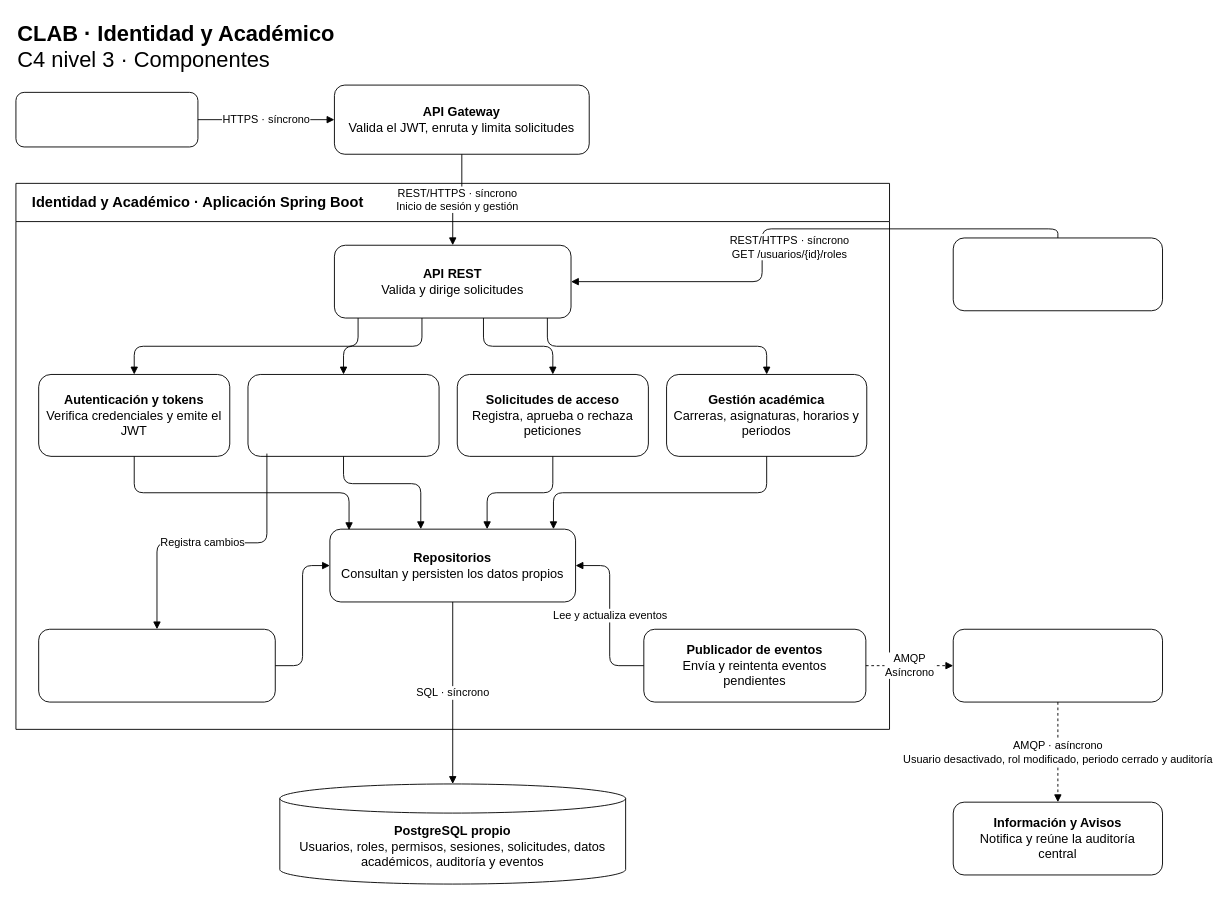
Some shapes in this 1229 by 900 pixel diagram are drawn without their labels. The box of each missing label's shape, as (x1, y1, x2, y2) in pixels:
Clientes web y móvil: (15, 91, 198, 147)
Laboratorios y Recursos Valida al encargado de un laboratorio: (952, 237, 1163, 311)
RabbitMQ Distribuye eventos de identidad y auditoría: (952, 628, 1163, 702)
Registro de auditoría Guarda cada cambio y su evento pendiente: (38, 628, 275, 702)
Usuarios, roles y permisos Cuentas, roles y asignación de permisos: (247, 374, 439, 456)
